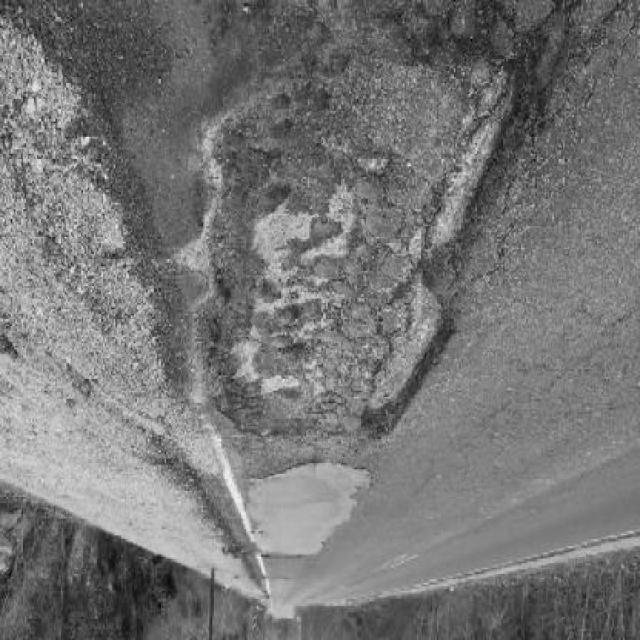pothole: (196, 15, 542, 450)
